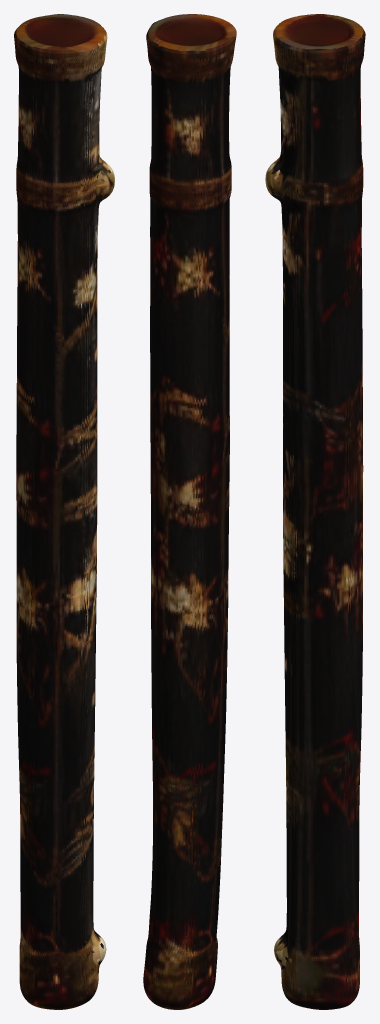
The model's file is saya_source.glb.
3 renders of one model, left to right at view 1: azimuth 90°, elevation 25°; view 2: azimuth 150°, elevation 25°; view 3: azimuth 270°, elevation 25°, orthographic.
Parts seen in each view (by area): view 1: temp_mesh.ply; view 2: temp_mesh.ply; view 3: temp_mesh.ply.
Boxes of the visible parts, left/top/right/bottom form: temp_mesh.ply: left=14, top=14, right=114, bottom=1009; temp_mesh.ply: left=143, top=14, right=236, bottom=1009; temp_mesh.ply: left=265, top=14, right=365, bottom=1009.
Size of the model in its own units: 0.1669 by 1.97 by 0.1842.
Materials: 1 (1 with a texture image).
